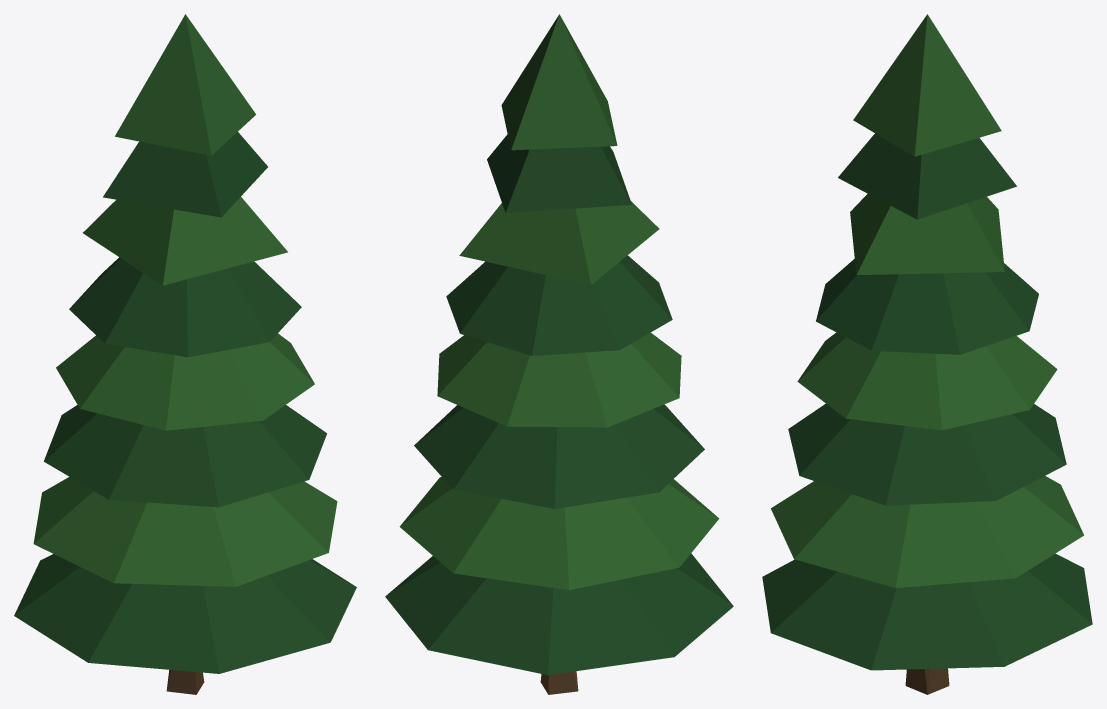
Rendered from tree_pine_4_lod1.glb.
3 views of the same model, side by side, from view 1: azimuth 30°, elevation 25°; view 2: azimuth 150°, elevation 25°; view 3: azimuth 270°, elevation 25° (orthographic).
Parts seen in each view (by area): view 1: tree_pine_4_lod1; view 2: tree_pine_4_lod1; view 3: tree_pine_4_lod1.
Part boxes in pixels (x1,y1,x2,y2): tree_pine_4_lod1: (14,14,356,694); tree_pine_4_lod1: (385,14,733,694); tree_pine_4_lod1: (762,14,1092,694).
Bounding box in the file's own units: 5.29 × 11.87 × 5.29.
